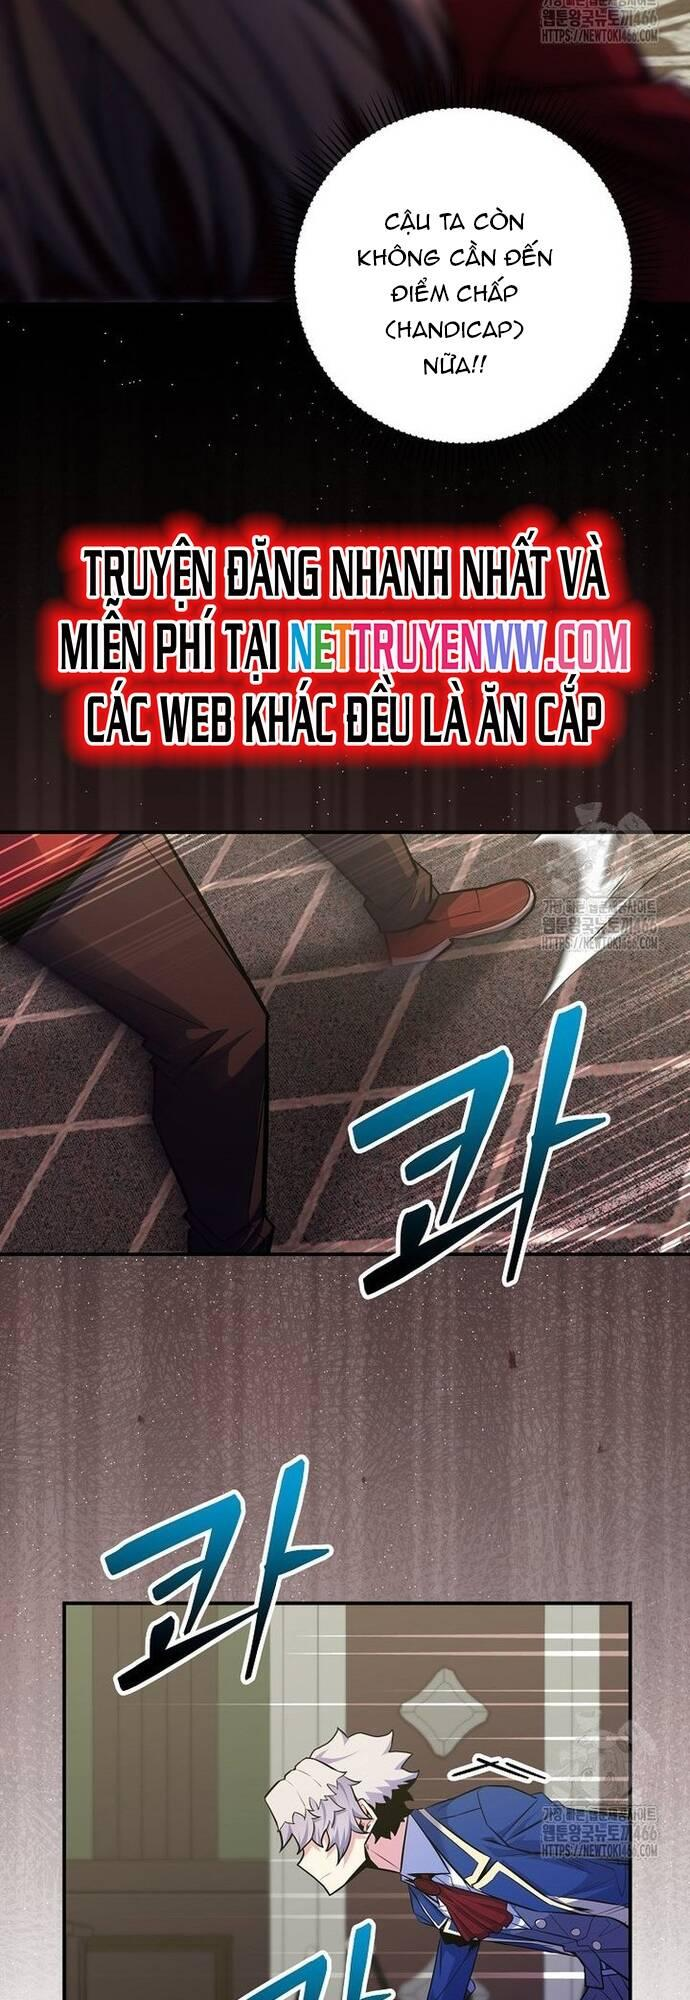quangcao: (42, 523, 648, 763)
